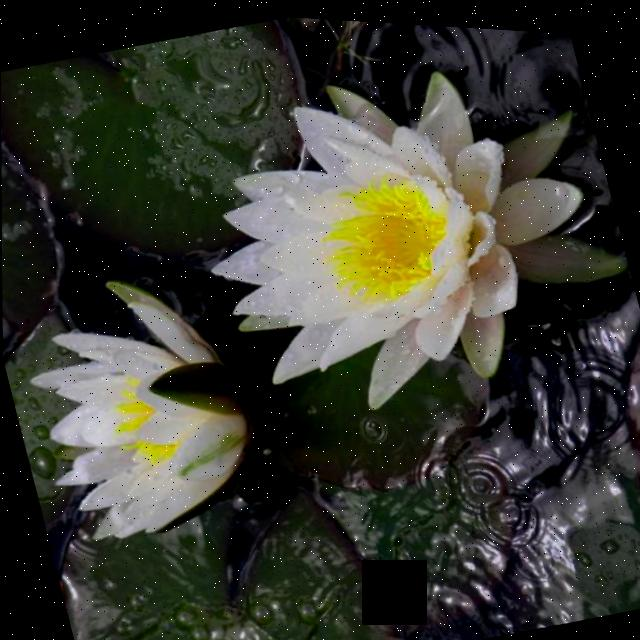water-lily: (153, 21, 640, 458), (1, 234, 301, 576)
